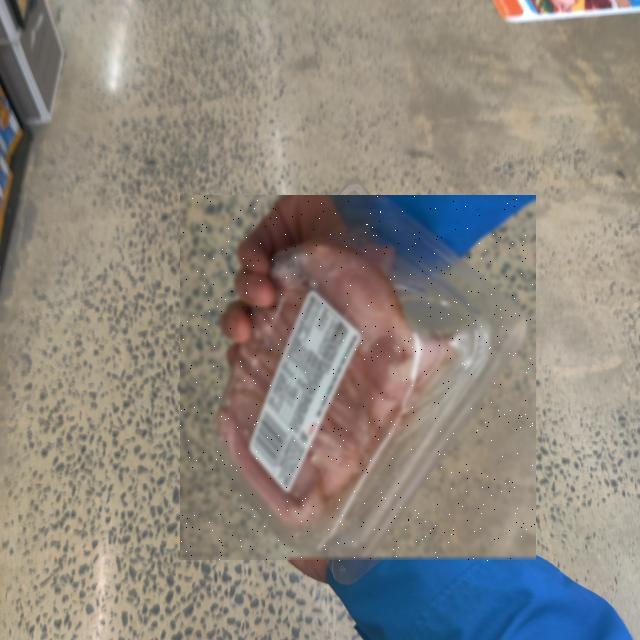Meat: (180, 196, 536, 562)
